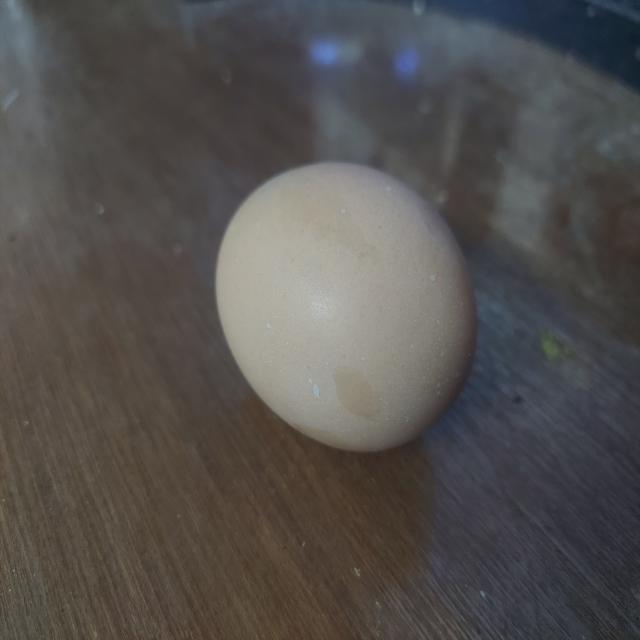Egg: (212, 153, 484, 461)
